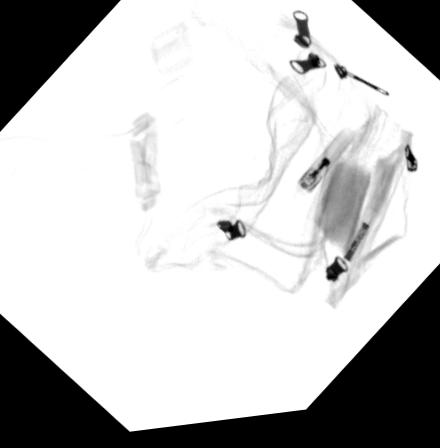Lighter: (293, 137, 355, 203)
